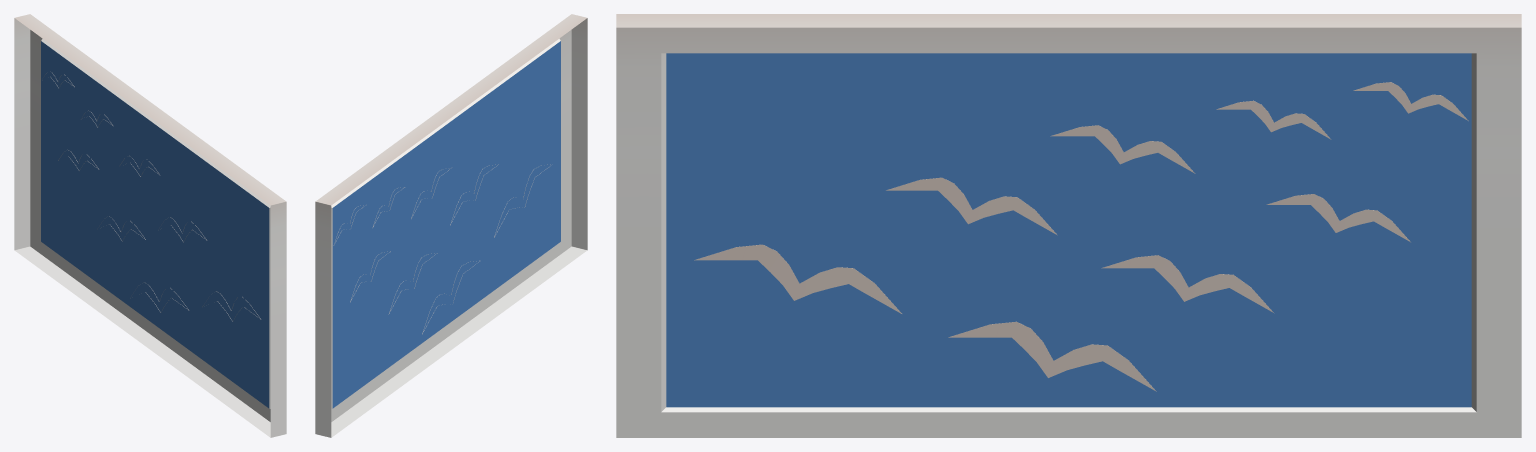
File: Living_Room_picture.fbx
3 views of the same model, side by side, from view 1: azimuth 30°, elevation 25°; view 2: azimuth 150°, elevation 25°; view 3: azimuth 270°, elevation 25° (orthographic). The views are drawn at different scales.
Visible parts, largest first — view 1: Living_Room_picture; view 2: Living_Room_picture; view 3: Living_Room_picture.
Part boxes in pixels (<box>): Living_Room_picture: <box>14,14,286,437</box>; Living_Room_picture: <box>315,14,587,437</box>; Living_Room_picture: <box>616,14,1521,437</box>.
Size of the model in its own units: 7.06 by 98.85 by 198.
